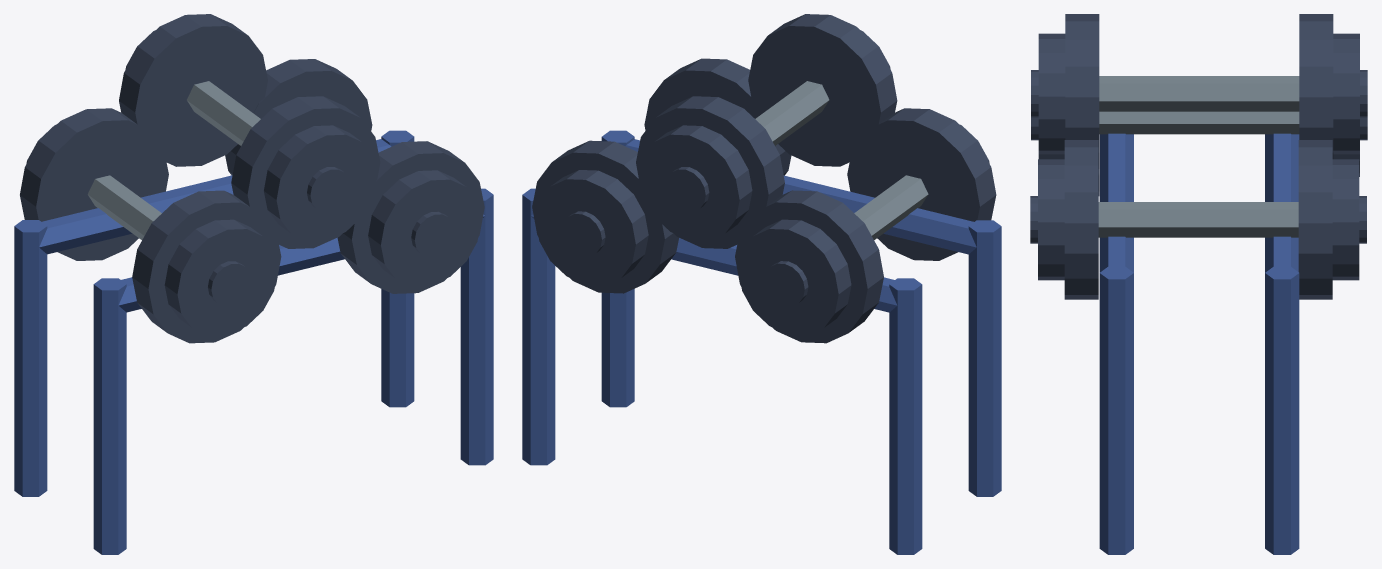
The model's file is 6 dumbbells.fbx.
3 renders of one model, left to right at view 1: azimuth 30°, elevation 25°; view 2: azimuth 150°, elevation 25°; view 3: azimuth 270°, elevation 25°, orthographic. The views are drawn at different scales.
Parts seen in each view (by area): view 1: 5 dumbbells; view 2: 5 dumbbells; view 3: 5 dumbbells.
Boxes of the visible parts, bbox=[...] form: 5 dumbbells: bbox=[14, 14, 493, 554]; 5 dumbbells: bbox=[522, 14, 1001, 554]; 5 dumbbells: bbox=[1030, 14, 1367, 554].
Size of the model in its own units: 33.05 by 33.39 by 23.63.
